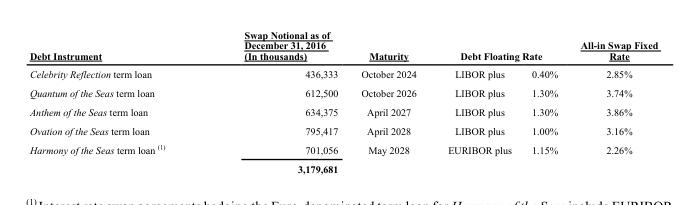table: (28, 29, 657, 174)
table column: (28, 29, 204, 174), (204, 29, 348, 174), (431, 29, 520, 174), (568, 29, 657, 174), (348, 29, 431, 174), (520, 29, 568, 174)
table column header: (28, 29, 657, 83)
table row: (28, 29, 657, 64), (28, 139, 657, 159), (28, 64, 657, 83), (28, 83, 657, 102), (28, 102, 657, 121), (28, 121, 657, 139), (28, 159, 657, 174)
table spanning cell: (28, 29, 204, 83), (204, 29, 348, 83), (568, 29, 657, 83), (431, 29, 568, 64), (348, 29, 431, 83)
